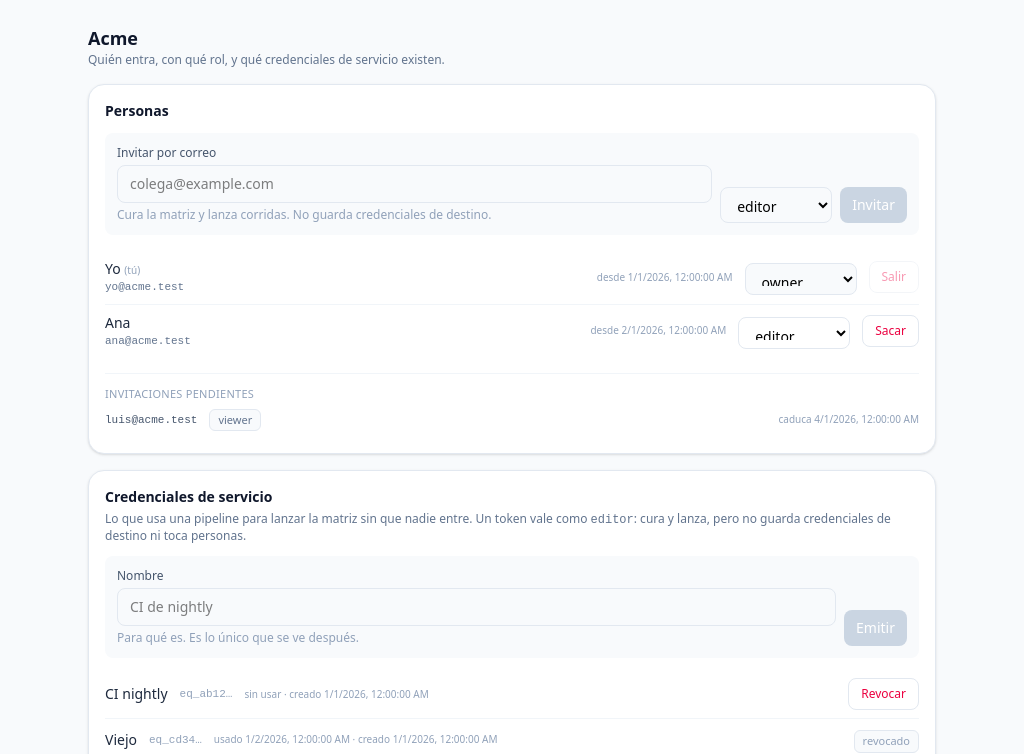
Test: SettingsPage › una invitación rechazada dice por qué
Expected: the text "ana@acme.test" is shown, [105,332,191,349]
Type "ana@acme.test" into the field with placeholder "colega@example.com" at (415, 184), box [117,165,712,203]
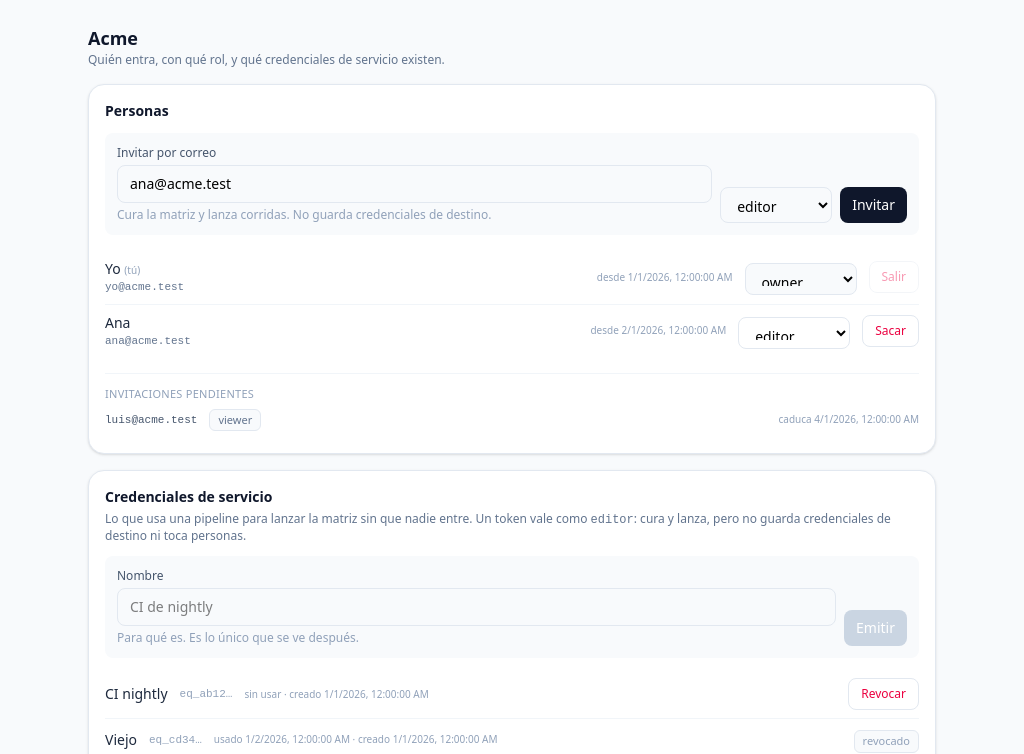
Click the button "Invitar" at (874, 205), box [840,187,907,223]
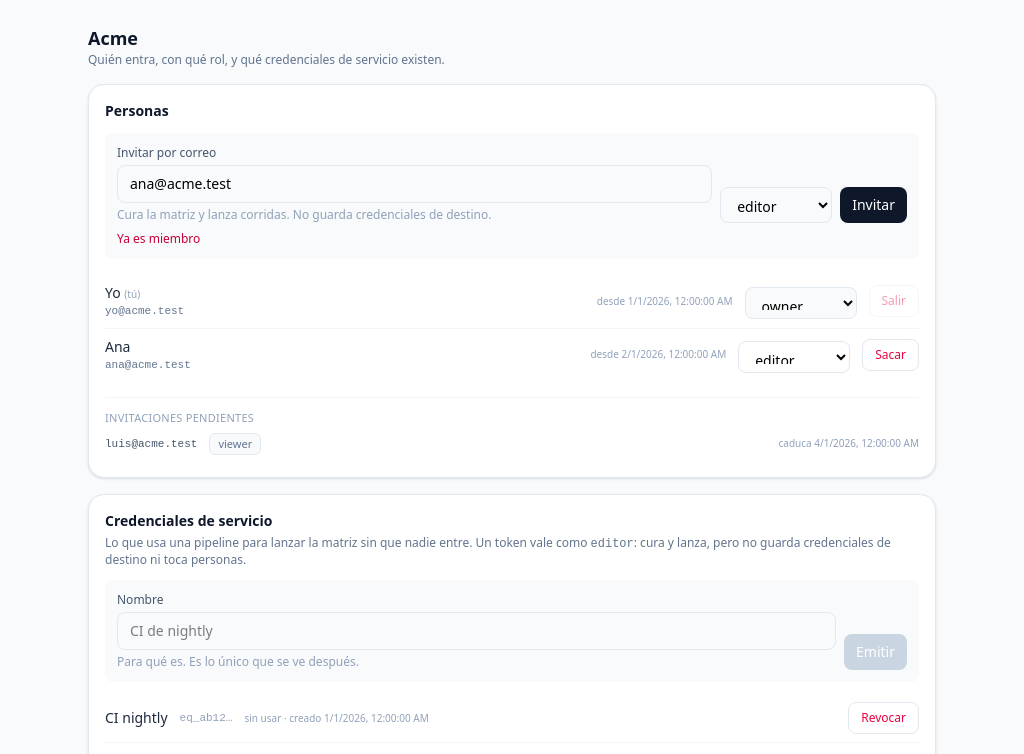
Result: the text "Ya es miembro" is shown at [117,230,200,247]
